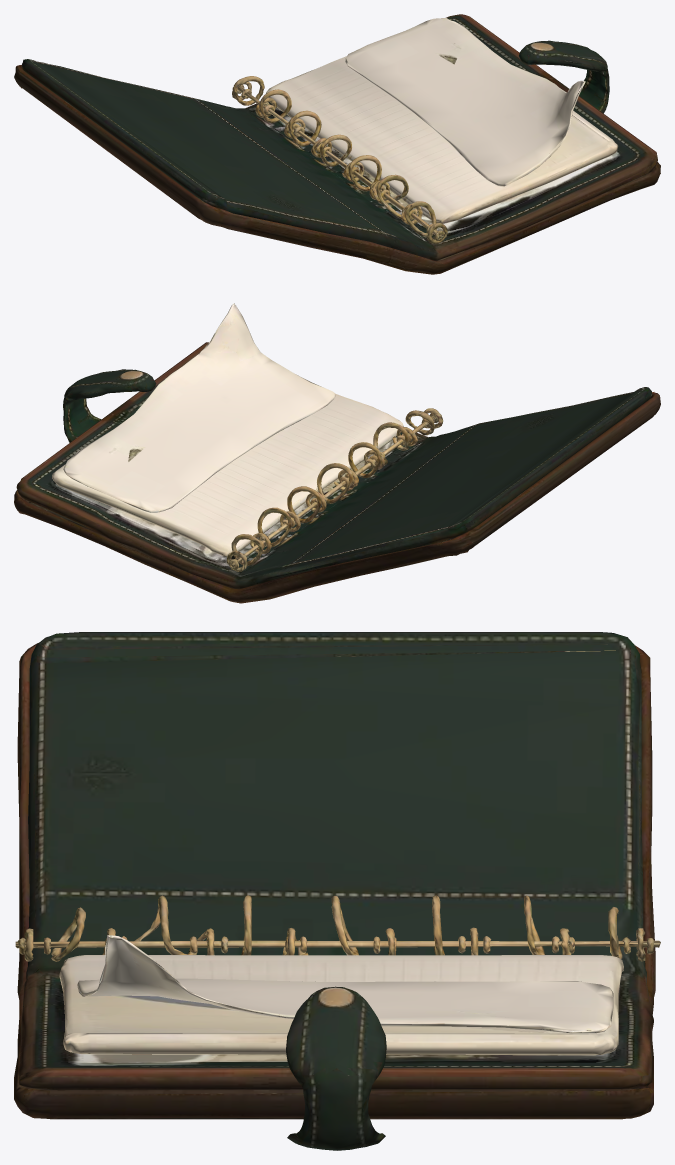
File: archive-binder-open-web.glb
The picture shows the model from 3 angles, top to bottom: view 1: azimuth 30°, elevation 25°; view 2: azimuth 150°, elevation 25°; view 3: azimuth 270°, elevation 25°; orthographic projection. The views are drawn at different scales.
Visible parts, largest first — view 1: Mesh_0.001; view 2: Mesh_0.001; view 3: Mesh_0.001.
Part boxes in pixels (bbox=[...]): Mesh_0.001: bbox=[14, 14, 660, 274]; Mesh_0.001: bbox=[14, 303, 660, 603]; Mesh_0.001: bbox=[14, 632, 660, 1150].
Size of the model in its own units: 0.0767 by 0.02 by 0.0551.
Materials: 1 (1 with a texture image).
